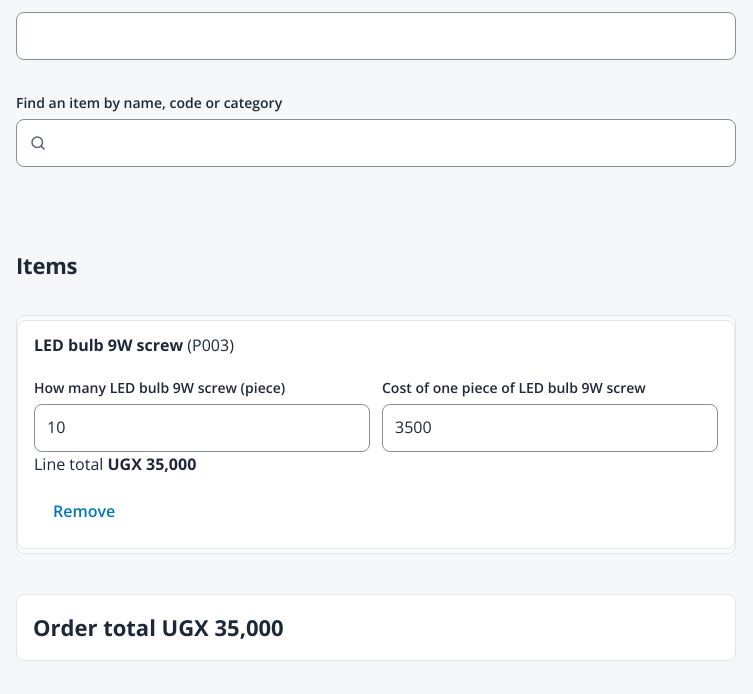
the purchase order pages › keeps unsaved edits when someone else changed the order and a refresh brings the new version
(page scrolled)
Replace the text in the field labelled "How many LED bulb 9W screw (piece)" with "12" at {"x": 202, "y": 428}, box 34,404 -> 370,452
(page scrolled)
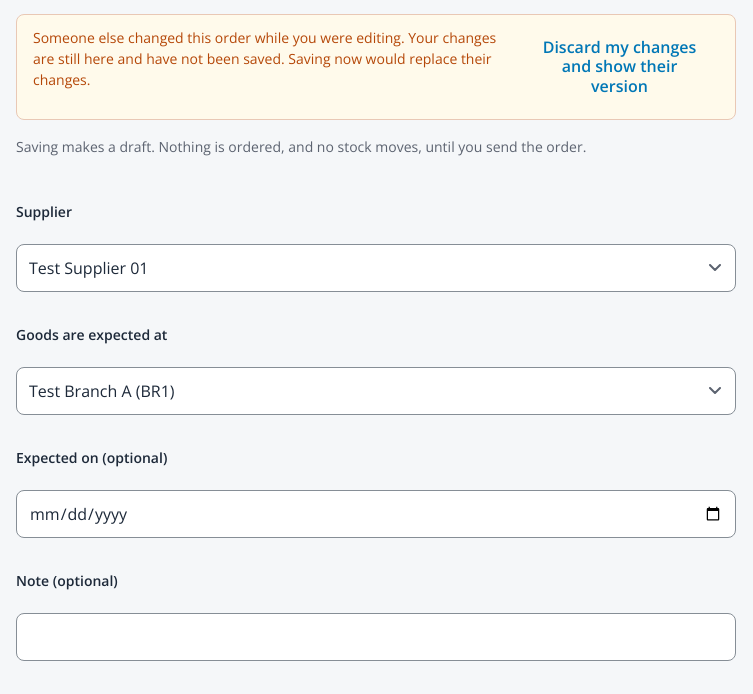
Result: the message shows "Someone else changed this order" at 33,28 -> 496,89
Click the button "Discard my changes and show their version" at {"x": 620, "y": 67}, box 520,27 -> 719,107
(page scrolled)
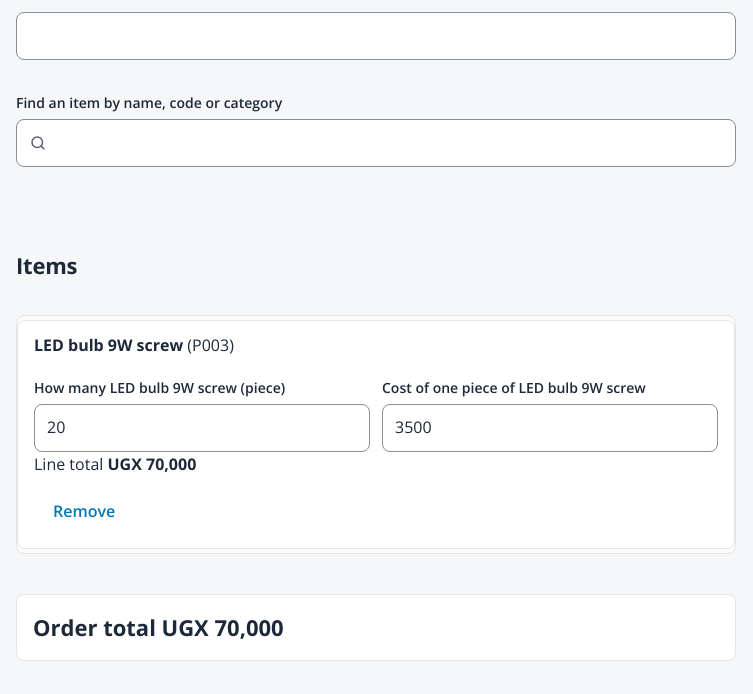
Result: the field labelled "How many LED bulb 9W screw (piece)" holds "20" at 34,404 -> 370,452
